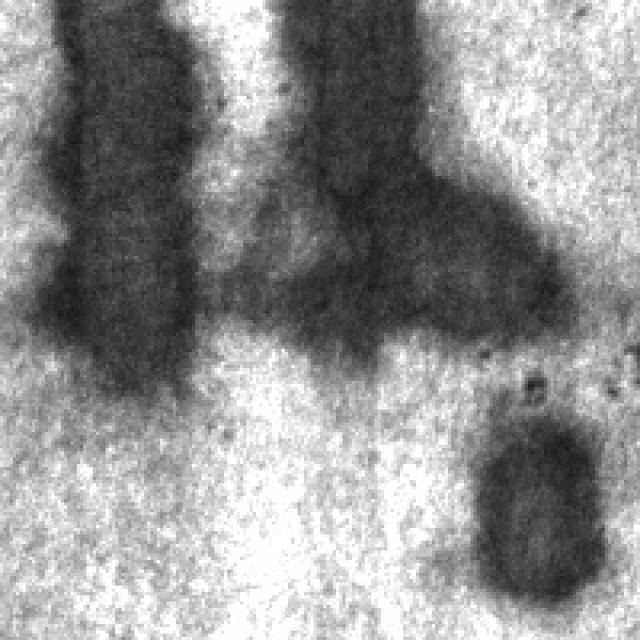patches: (237, 0, 563, 352), (22, 0, 202, 387), (461, 371, 605, 595)
